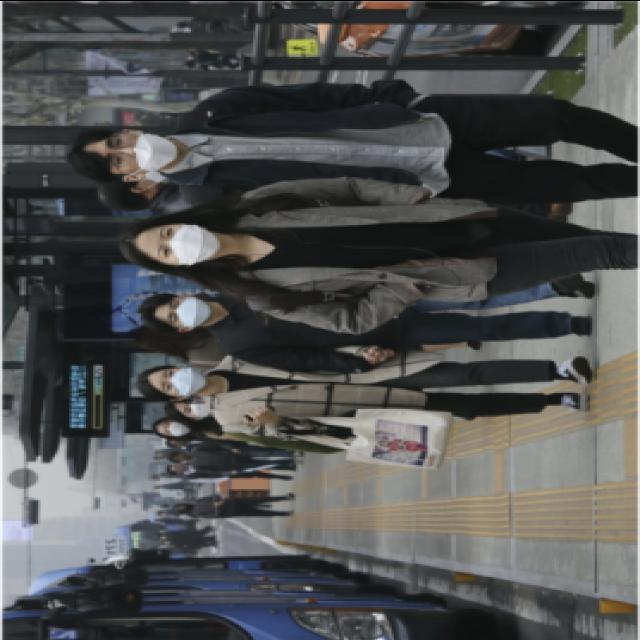mask_weared_incorrect: (100, 132, 176, 174)
with_mask: (152, 220, 222, 266), (158, 363, 208, 395), (164, 294, 210, 324), (179, 397, 213, 418), (160, 418, 191, 436), (177, 500, 191, 510)
without_mask: (172, 451, 188, 459), (170, 462, 183, 470)
